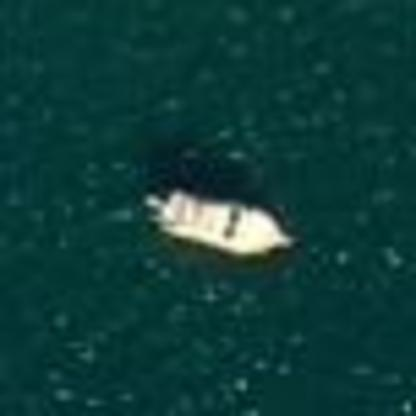ship: (132, 178, 310, 270)
